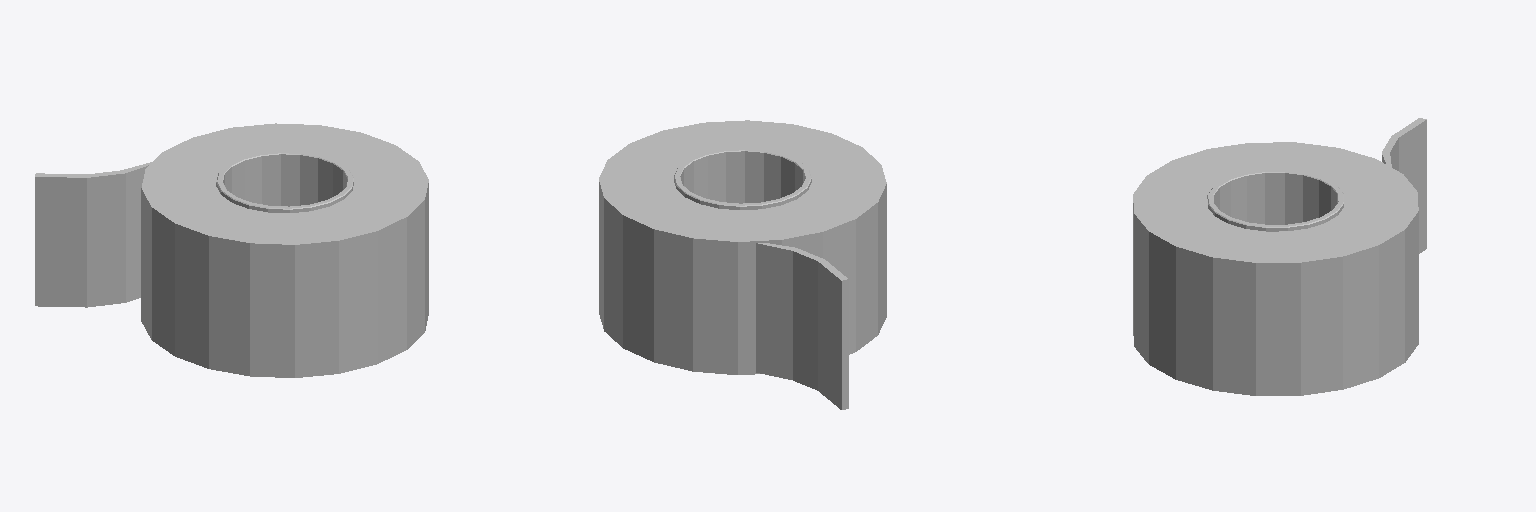
Rendered from Tape.obj.
3 views of the same model, side by side, from view 1: azimuth 30°, elevation 25°; view 2: azimuth 150°, elevation 25°; view 3: azimuth 270°, elevation 25° (orthographic).
Size of the model in its own units: 14.61 by 6.57 by 12.32.